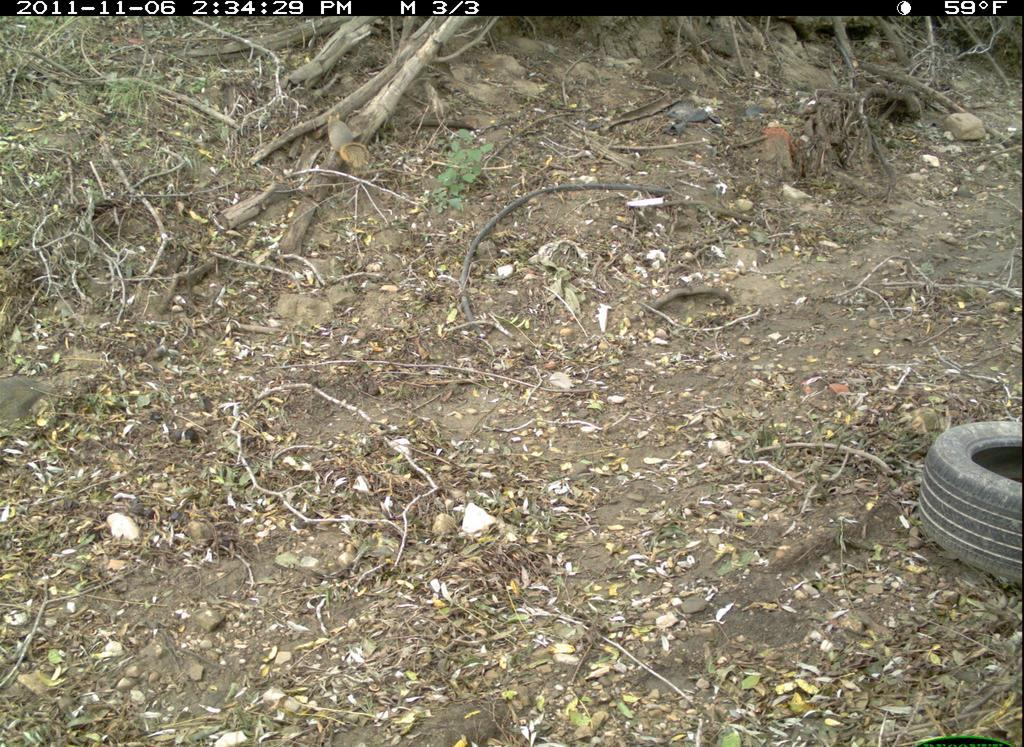squirrel: (321, 104, 373, 176)
